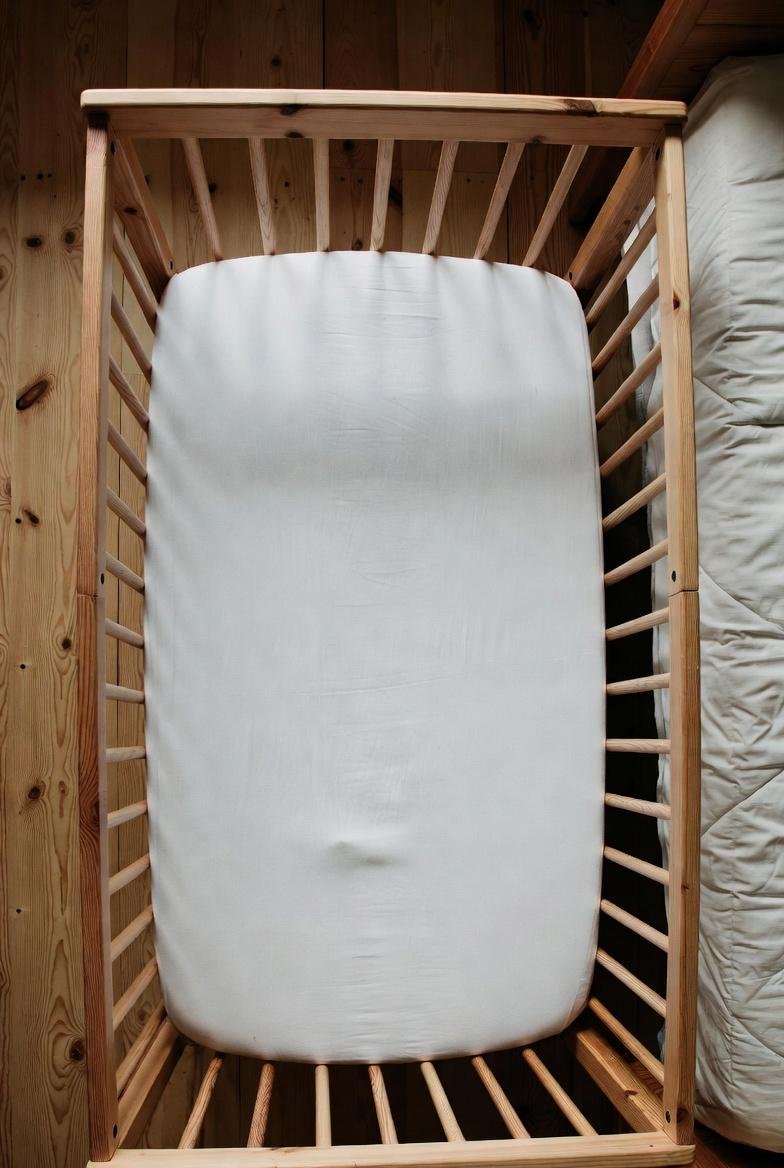crib: (78, 90, 699, 1168)
